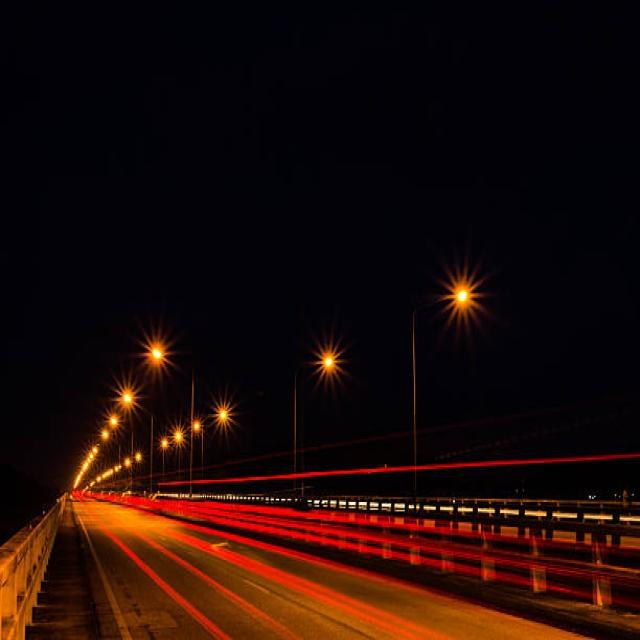acesa: (130, 318, 183, 381), (438, 270, 488, 326), (307, 336, 351, 384), (203, 388, 244, 439), (165, 422, 188, 452), (114, 381, 138, 409)
